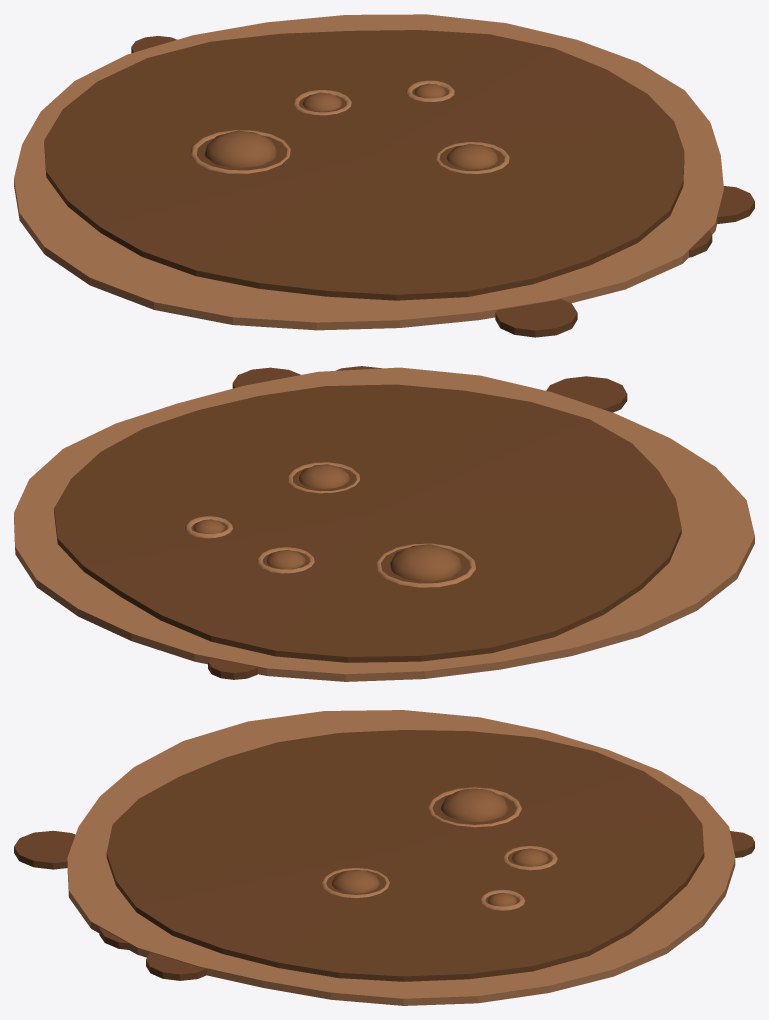
The model's file is terrain_mud.glb.
3 views of the same model, one above another, from view 1: azimuth 30°, elevation 25°; view 2: azimuth 150°, elevation 25°; view 3: azimuth 270°, elevation 25° (orthographic). The views are drawn at different scales.
Parts seen in each view (by area): view 1: terrain_mud; view 2: terrain_mud; view 3: terrain_mud.
Part boxes in pixels (x1,y1,x2,y2): terrain_mud: (14, 14, 754, 337); terrain_mud: (14, 366, 754, 681); terrain_mud: (14, 710, 754, 1005).
Size of the model in its own units: 1.73 by 0.099 by 1.87.
